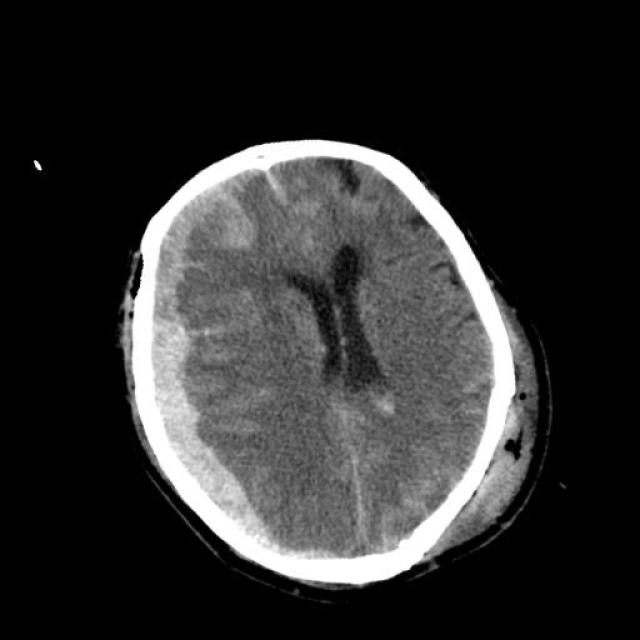Intraventricular: (331, 349, 408, 450)
Subarachnoid: (376, 455, 460, 533)
Subdural: (64, 177, 344, 606)
